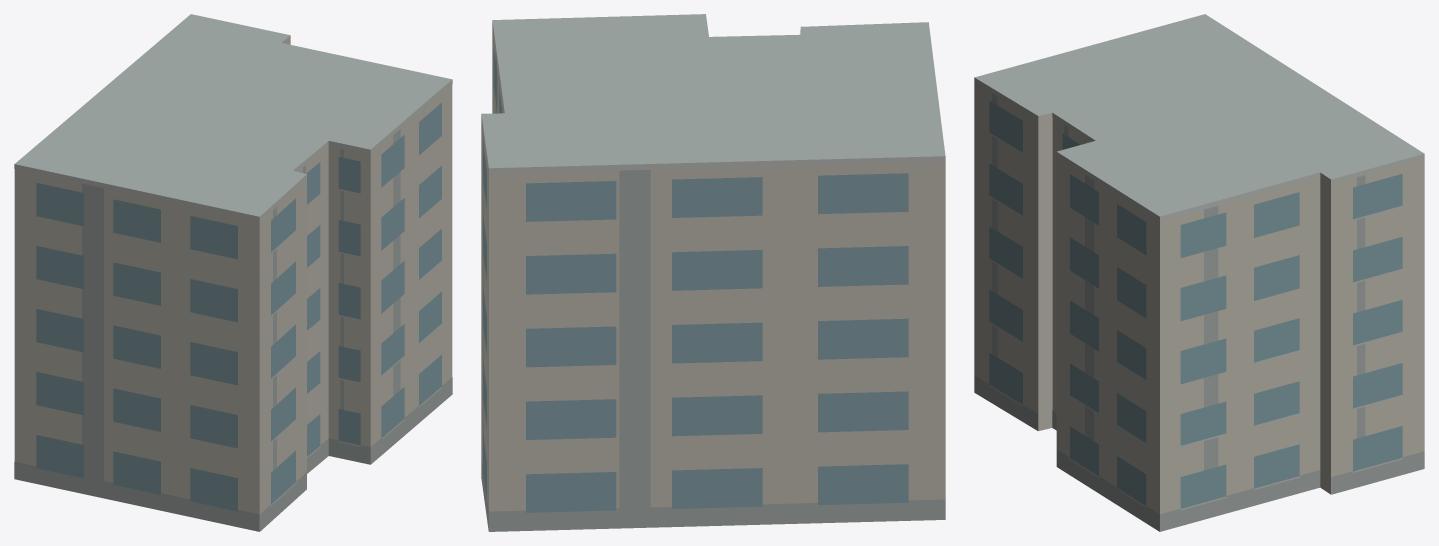
Rendered from survey-upis-32600453.glb.
3 views of the same model, side by side, from view 1: azimuth 30°, elevation 25°; view 2: azimuth 150°, elevation 25°; view 3: azimuth 270°, elevation 25° (orthographic). The views are drawn at different scales.
Parts seen in each view (by area): view 1: survey-upis-32600453.tmp; view 2: survey-upis-32600453.tmp; view 3: survey-upis-32600453.tmp.
Part boxes in pixels (bbox=[...]): survey-upis-32600453.tmp: bbox=[14, 14, 452, 531]; survey-upis-32600453.tmp: bbox=[481, 14, 945, 531]; survey-upis-32600453.tmp: bbox=[974, 14, 1424, 531].
Size of the model in its own units: 21.04 by 15.25 by 19.75.
